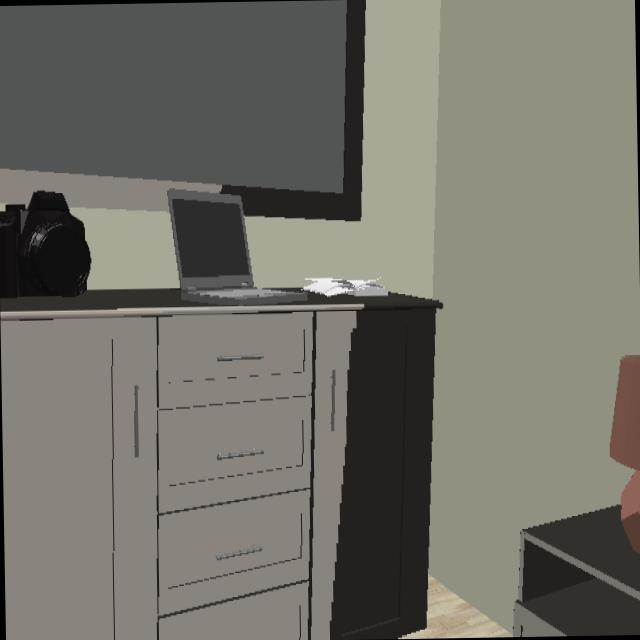book: (303, 278, 386, 296)
cabinet: (0, 289, 439, 640)
lamp: (610, 355, 640, 552)
laptop: (167, 189, 307, 305)
nighttable: (515, 505, 640, 635)
